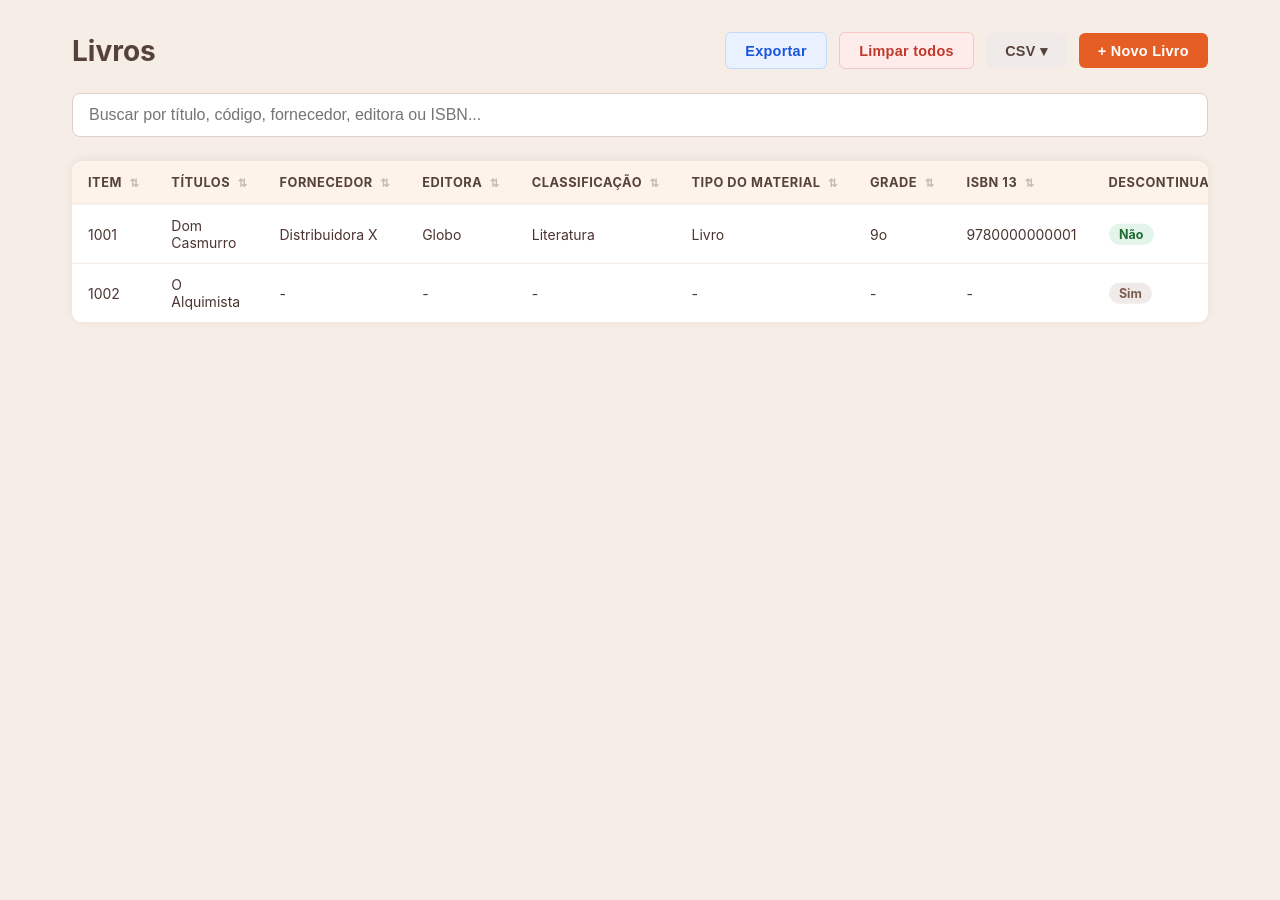
Test: Livros — exportação › "Desmarcar todas" desmarca todos os checkboxes
Click the button "Exportar" at (776, 51), box top-left (725, 32), bottom-right (827, 69)
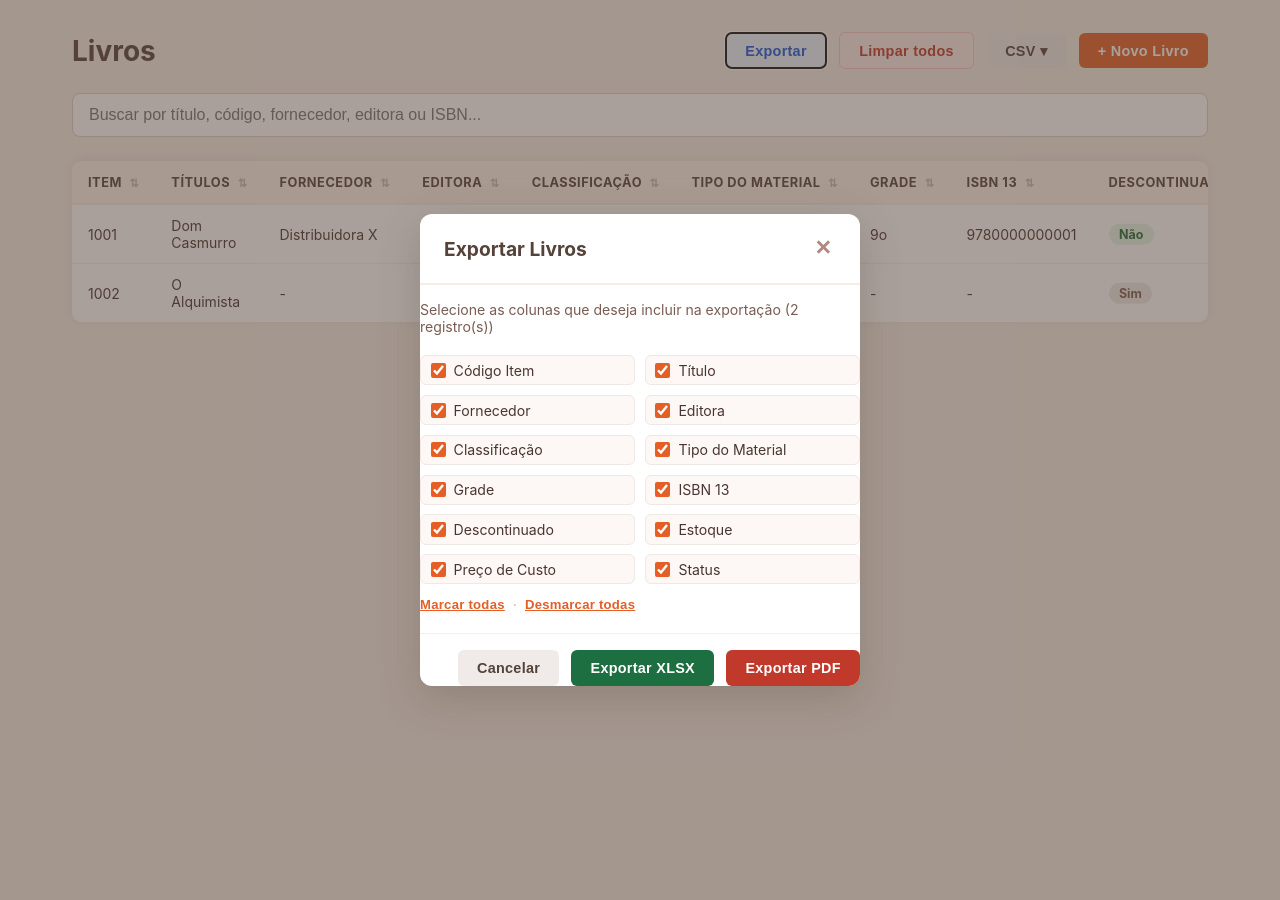
Click the button "Desmarcar todas" at (580, 605), box top-left (525, 597), bottom-right (635, 612)
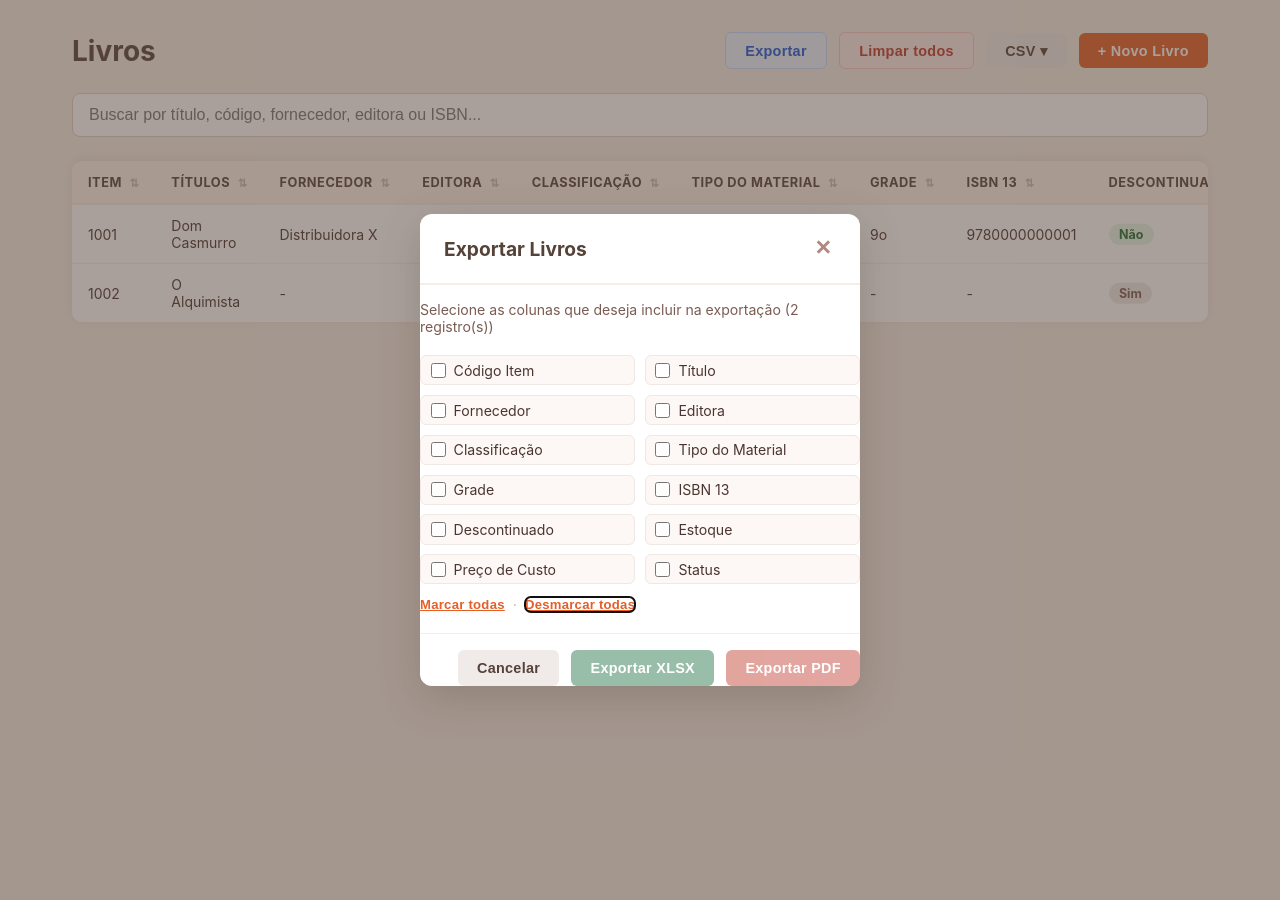
Expected: the checkbox labelled "Código Item" is not checked, top-left (431, 363), bottom-right (446, 378)
Expected: the checkbox labelled "Título" is not checked, top-left (655, 363), bottom-right (670, 378)
Expected: the checkbox labelled "Fornecedor" is not checked, top-left (431, 403), bottom-right (446, 418)
